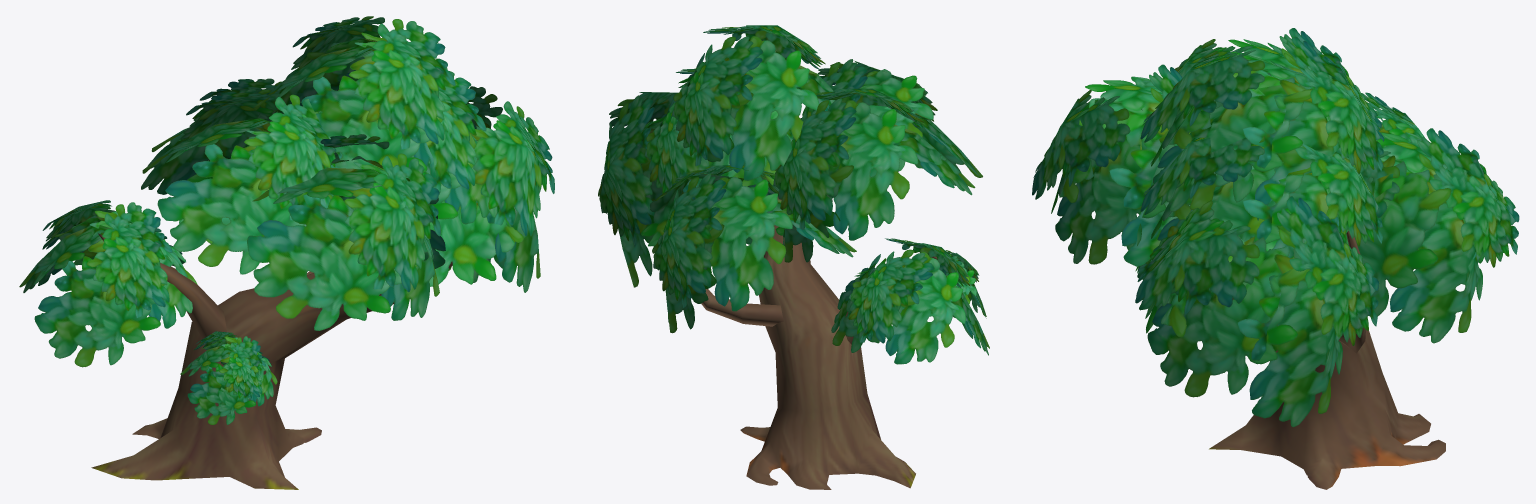
The model's file is mld_tree_02.FBX.
The picture shows the model from 3 angles, left to right: view 1: azimuth 30°, elevation 25°; view 2: azimuth 150°, elevation 25°; view 3: azimuth 270°, elevation 25°; orthographic projection. The views are drawn at different scales.
Visible parts, largest first — view 1: mld_tree_02; view 2: mld_tree_02; view 3: mld_tree_02.
Boxes of the visible parts, bbox=[...] form: mld_tree_02: bbox=[19, 16, 554, 489]; mld_tree_02: bbox=[598, 25, 989, 489]; mld_tree_02: bbox=[1032, 28, 1519, 489].
Size of the model in its own units: 806 by 677 by 649.
